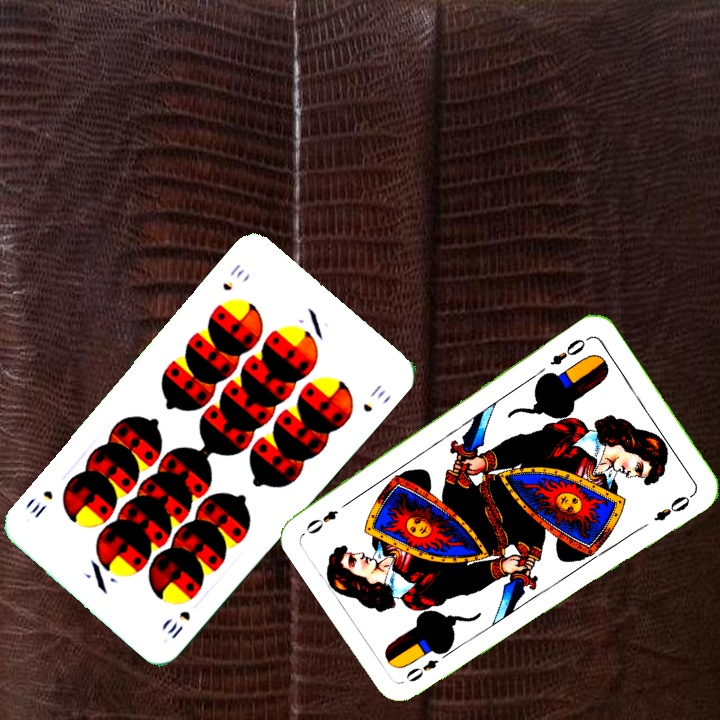EO: (402, 645, 454, 685), (546, 333, 592, 368)
S10: (163, 606, 193, 642), (218, 259, 247, 294)
